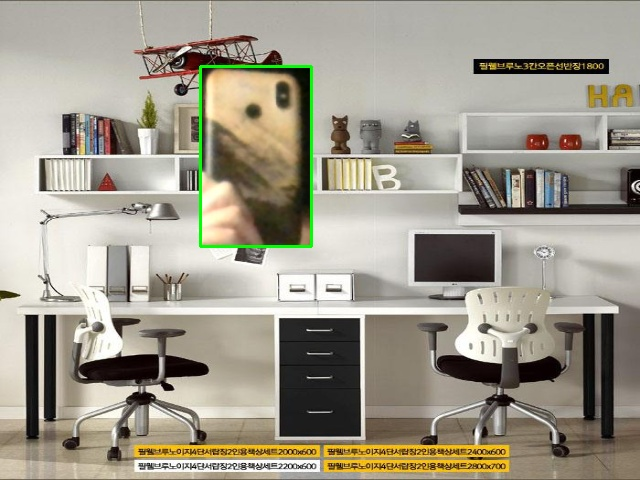UsingPhone: (200, 66, 311, 246)
